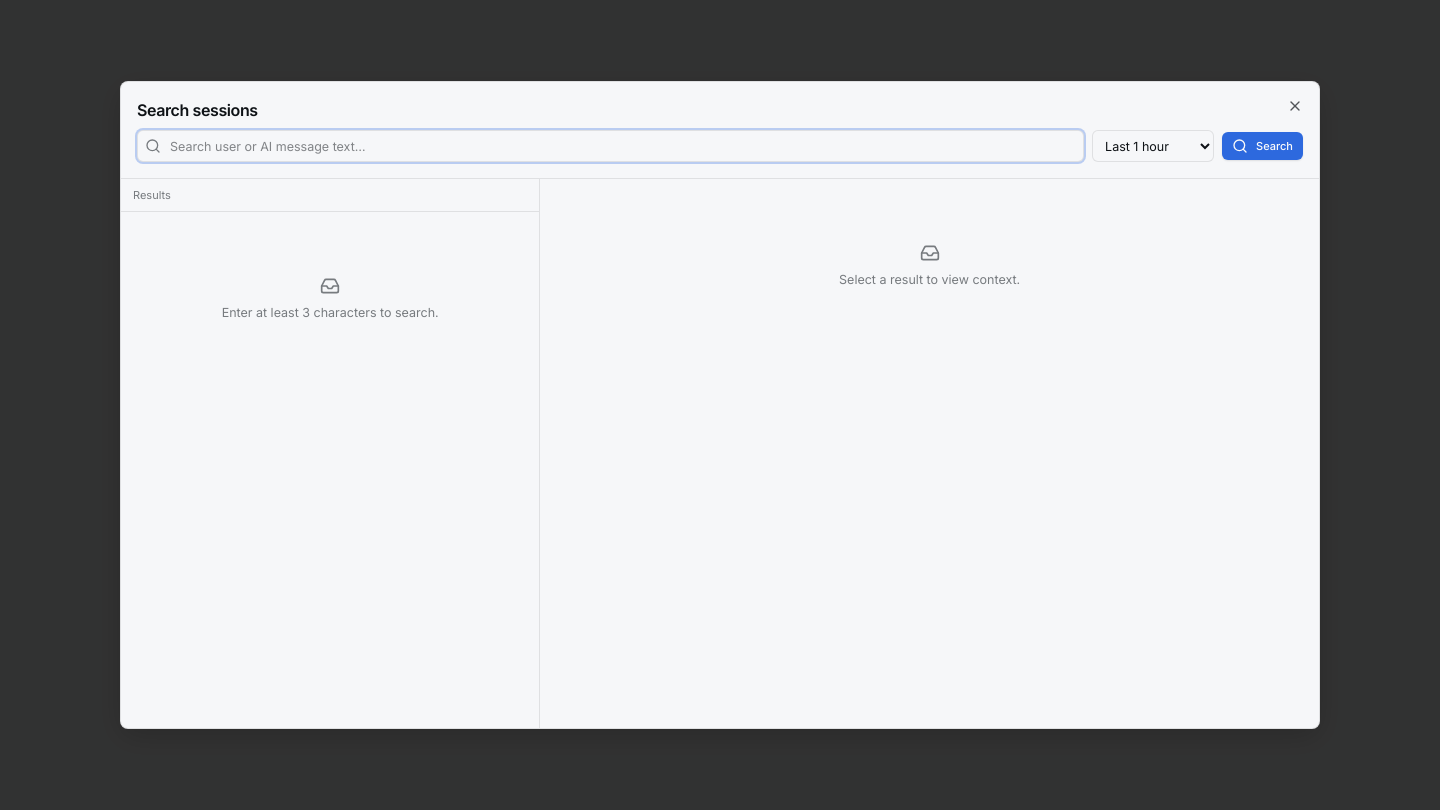
Test case: SessionSearchDialog interactions › sends a message blockCursor when expanding a long message
The width and height of the screenshot is (1440, 810).
In the field named "Search message text": (611, 146) [137,130,1084,162], type "refund"
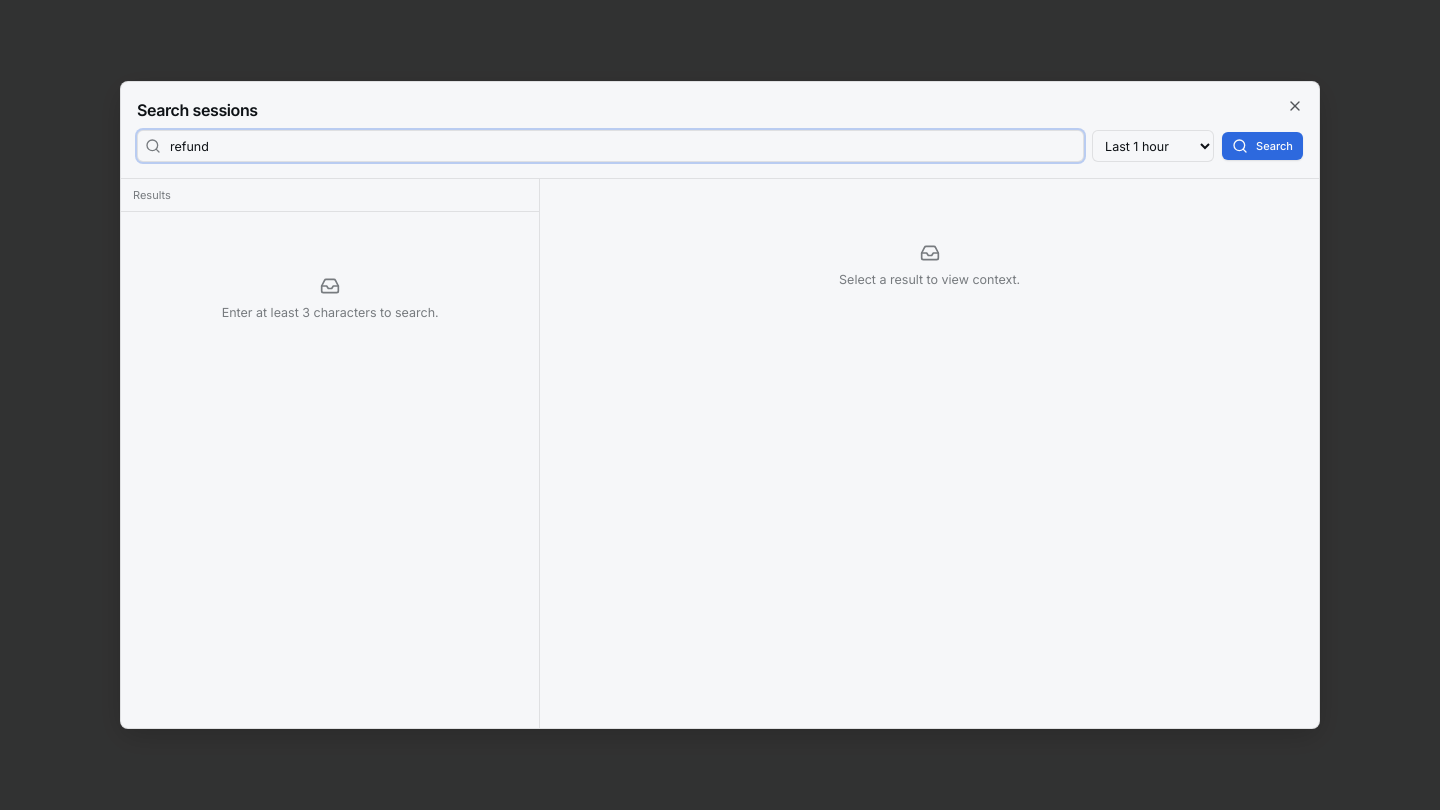
Click the button "Search": (1263, 146) [1222,132,1303,160]
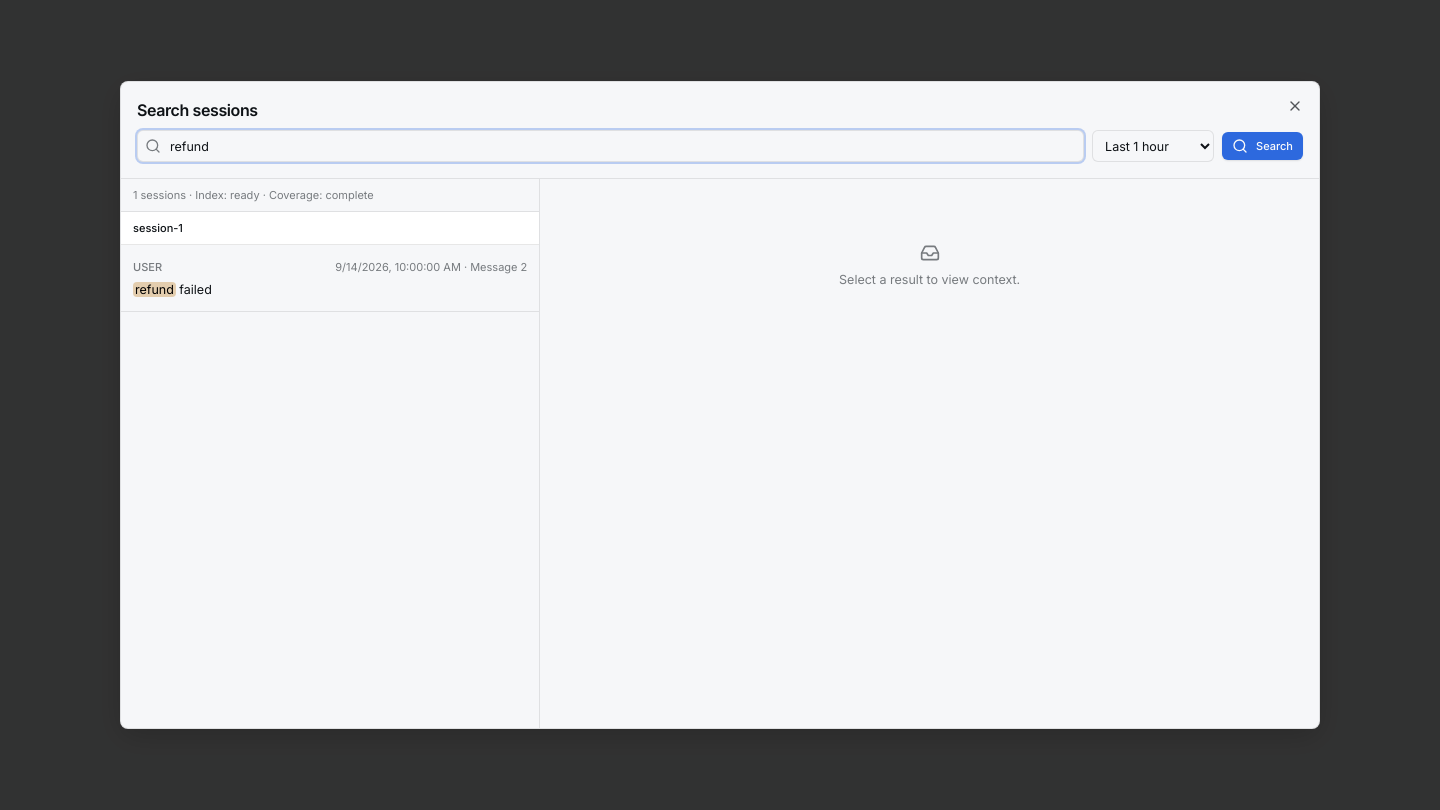
Expected: the button "user 9/14/2026, 10:00:00 AM · Message 2 refund failed" is shown
Click the button "user 9/14/2026, 10:00:00 AM · Message 2 refund failed": (398, 267) [121,245,539,312]
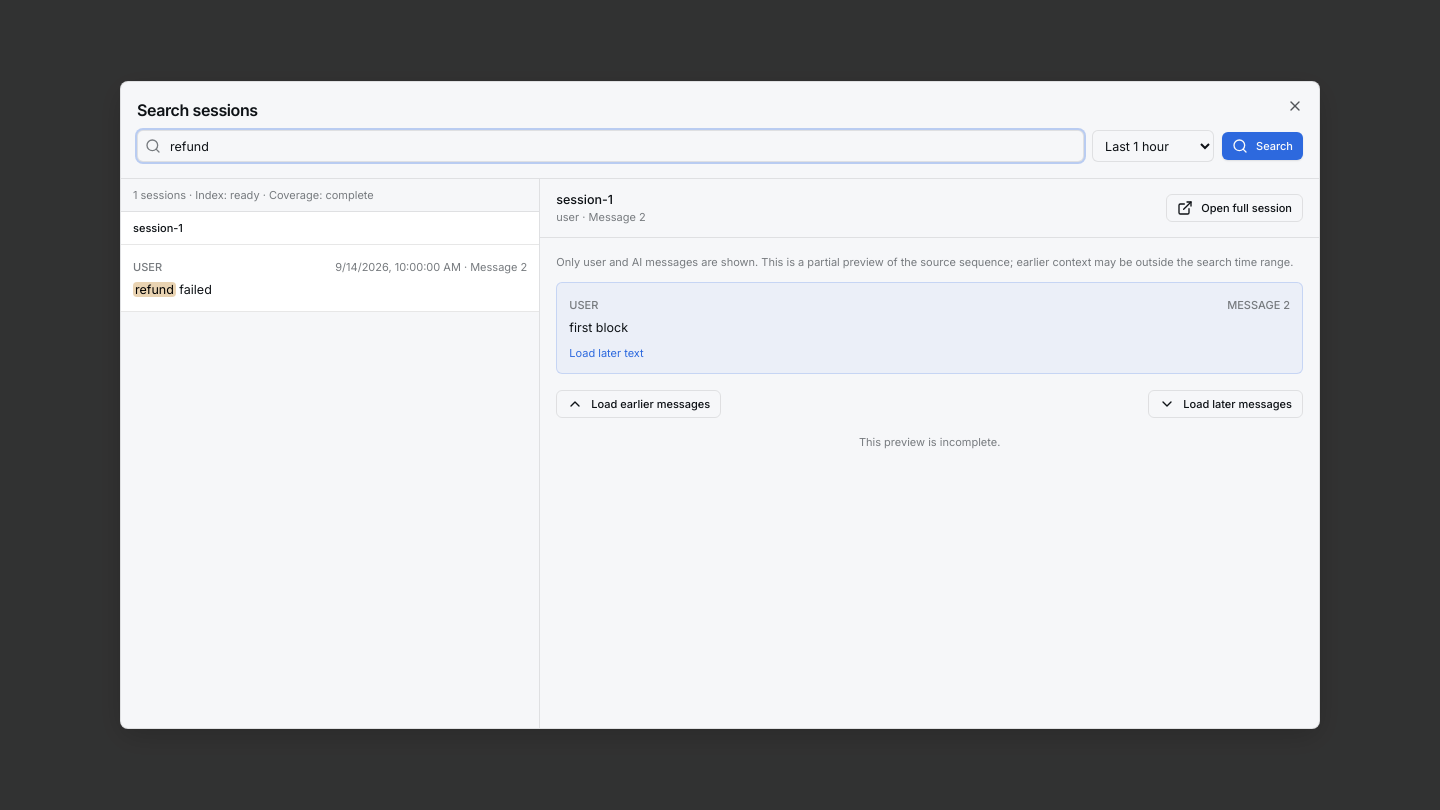
Expected: the element named "Context preview" shows "first block", [569,320,628,335]
Click the button "Load later text": (606, 353) [569,345,644,361]
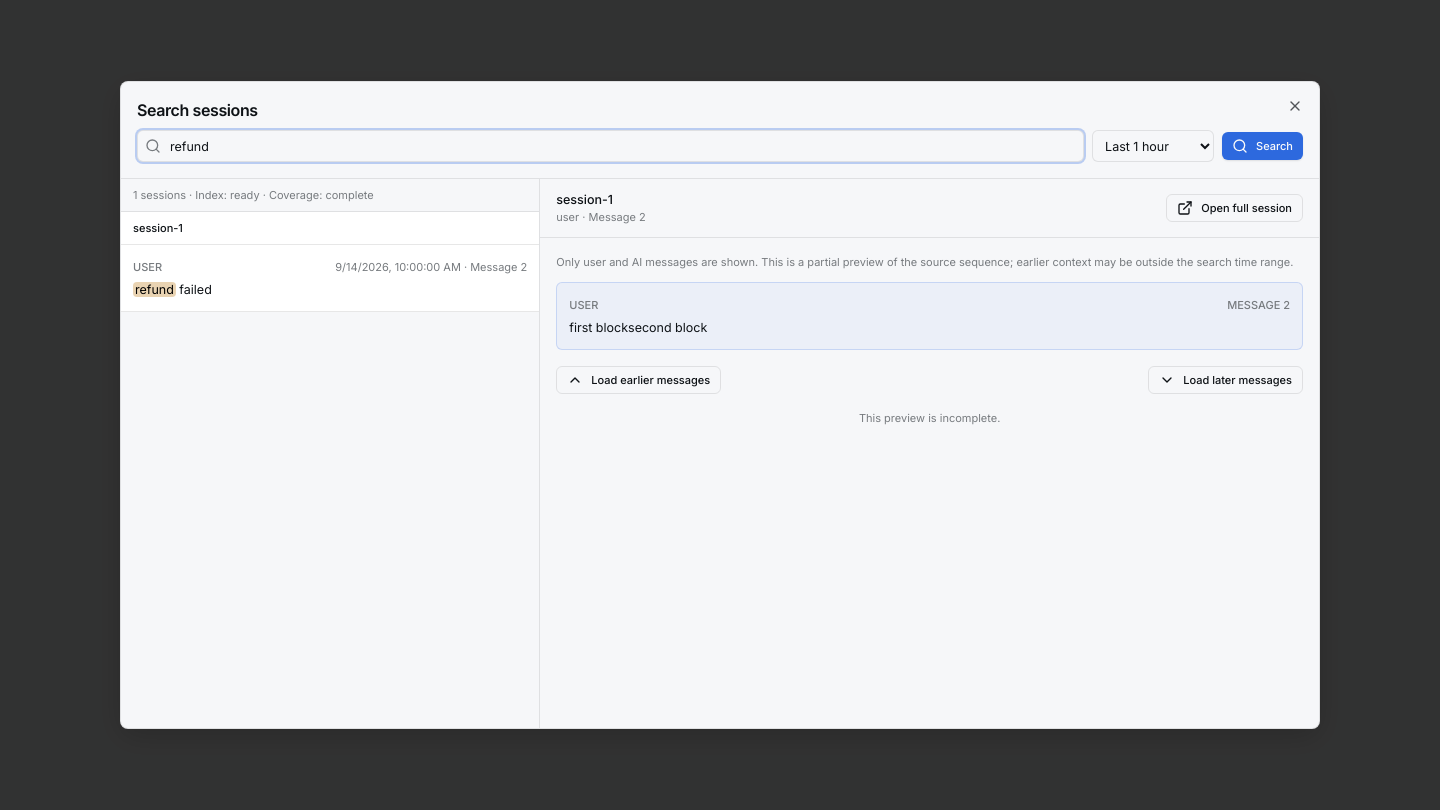
Expected: the element named "Context preview" shows "second block", [628,320,707,335]
